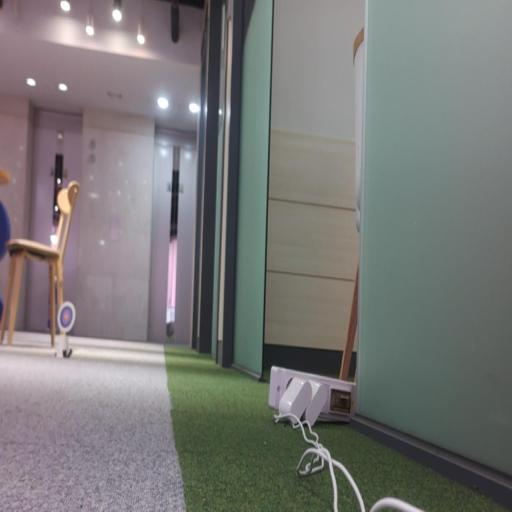target: (57, 301, 75, 334)
